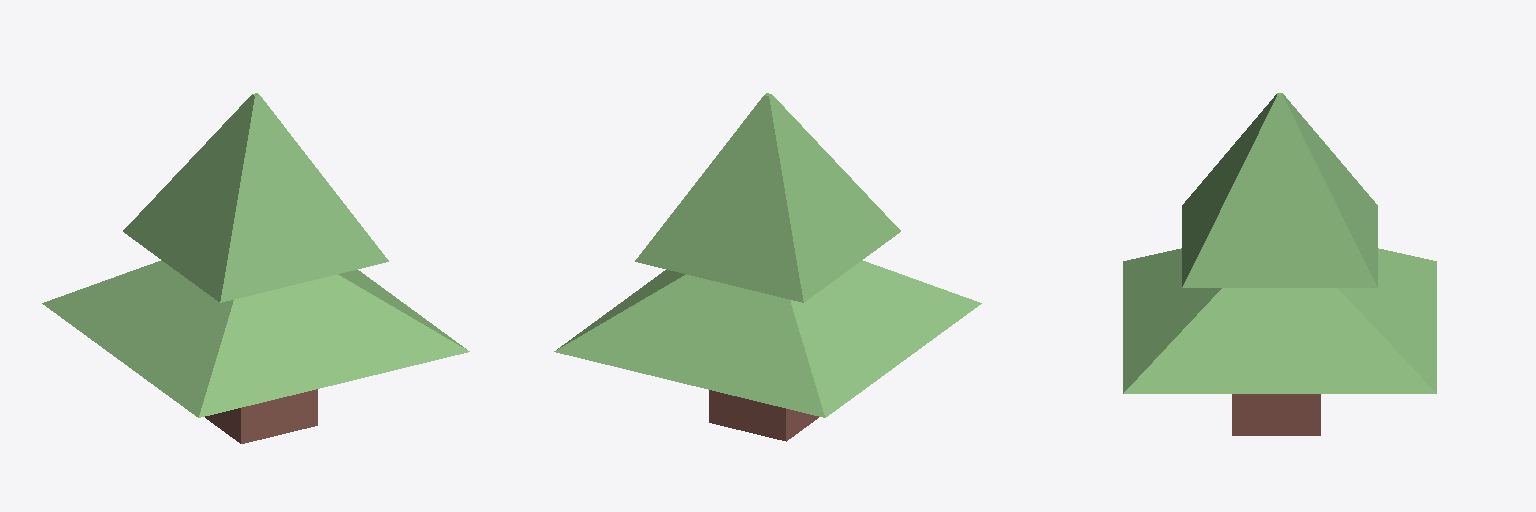
3 views of the same model, side by side, from view 1: azimuth 30°, elevation 25°; view 2: azimuth 150°, elevation 25°; view 3: azimuth 270°, elevation 25° (orthographic).
Visible parts, largest first — view 1: Cube.003; view 2: Cube.003; view 3: Cube.003.
Part boxes in pixels (left/top/right/bottom): Cube.003: left=42, top=93, right=469, bottom=443; Cube.003: left=554, top=93, right=981, bottom=441; Cube.003: left=1123, top=93, right=1436, bottom=435.
Bounding box in the file's own units: 0.7823 × 0.8874 × 0.7823.
1 materials, 1 textured.